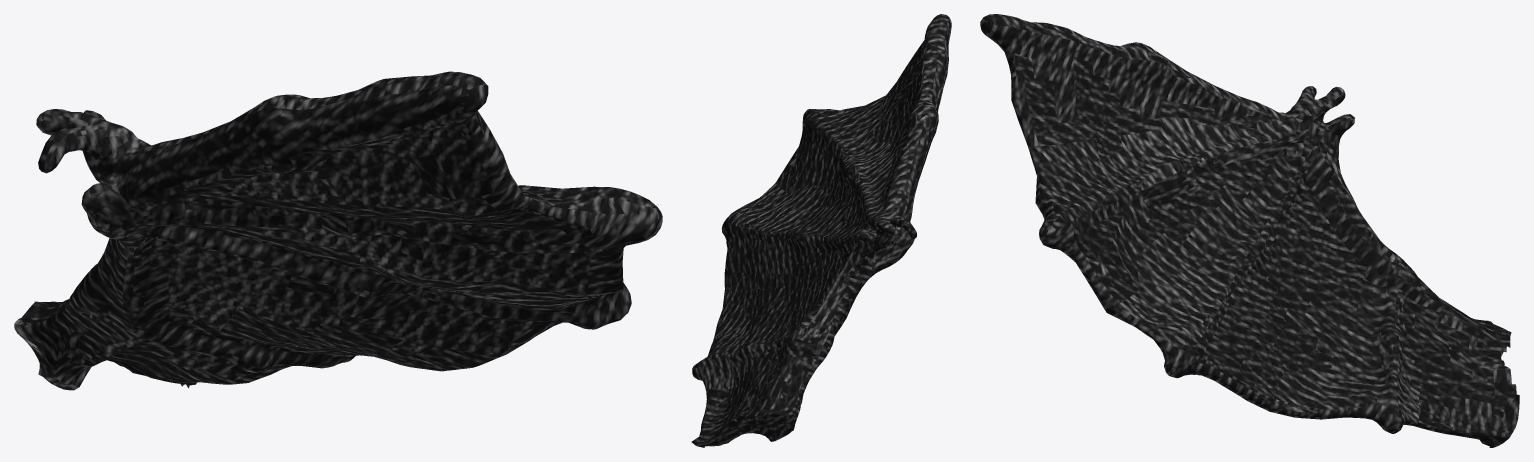
The model's file is AlaIzquierda.obj.
3 renders of one model, left to right at view 1: azimuth 30°, elevation 25°; view 2: azimuth 150°, elevation 25°; view 3: azimuth 270°, elevation 25°, orthographic. The views are drawn at different scales.
Visible parts, largest first — view 1: AlaIzquierda; view 2: AlaIzquierda; view 3: AlaIzquierda.
Part boxes in pixels (box(x1,y1,x2,y2)): AlaIzquierda: box(14, 71, 662, 390); AlaIzquierda: box(691, 14, 951, 447); AlaIzquierda: box(980, 14, 1519, 447).
Size of the model in its own units: 31.55 by 37.77 by 45.94.
